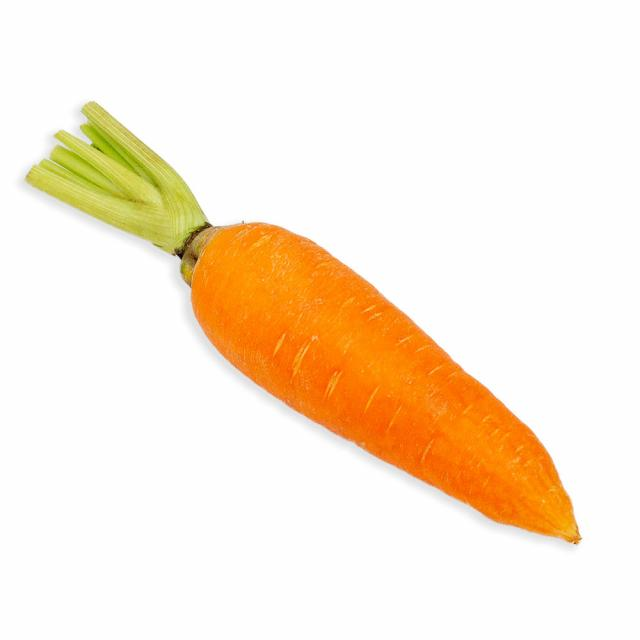Carrot: (56, 114, 591, 551)
